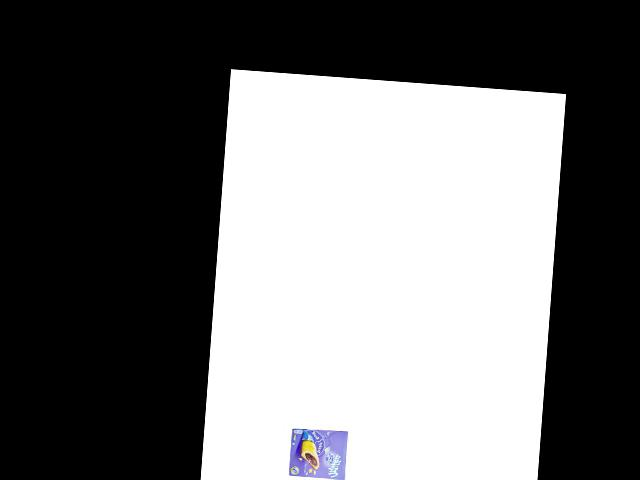chocolate: (284, 425, 352, 480)
